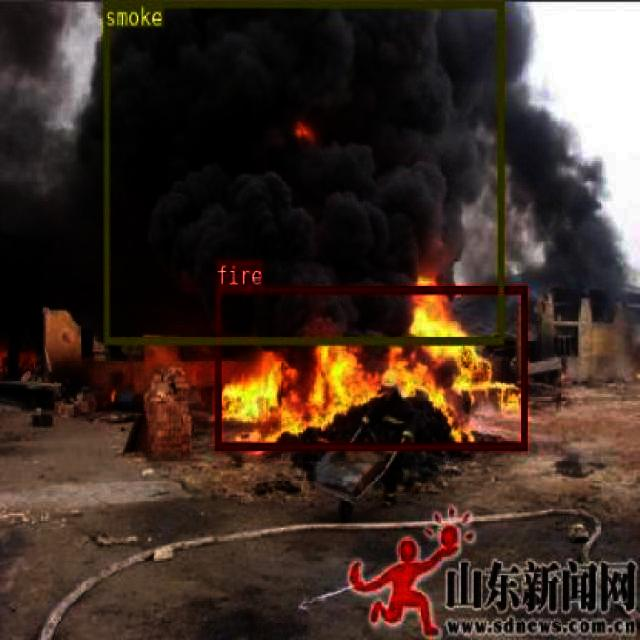fire: (214, 284, 526, 450)
smoke: (103, 0, 502, 342)
